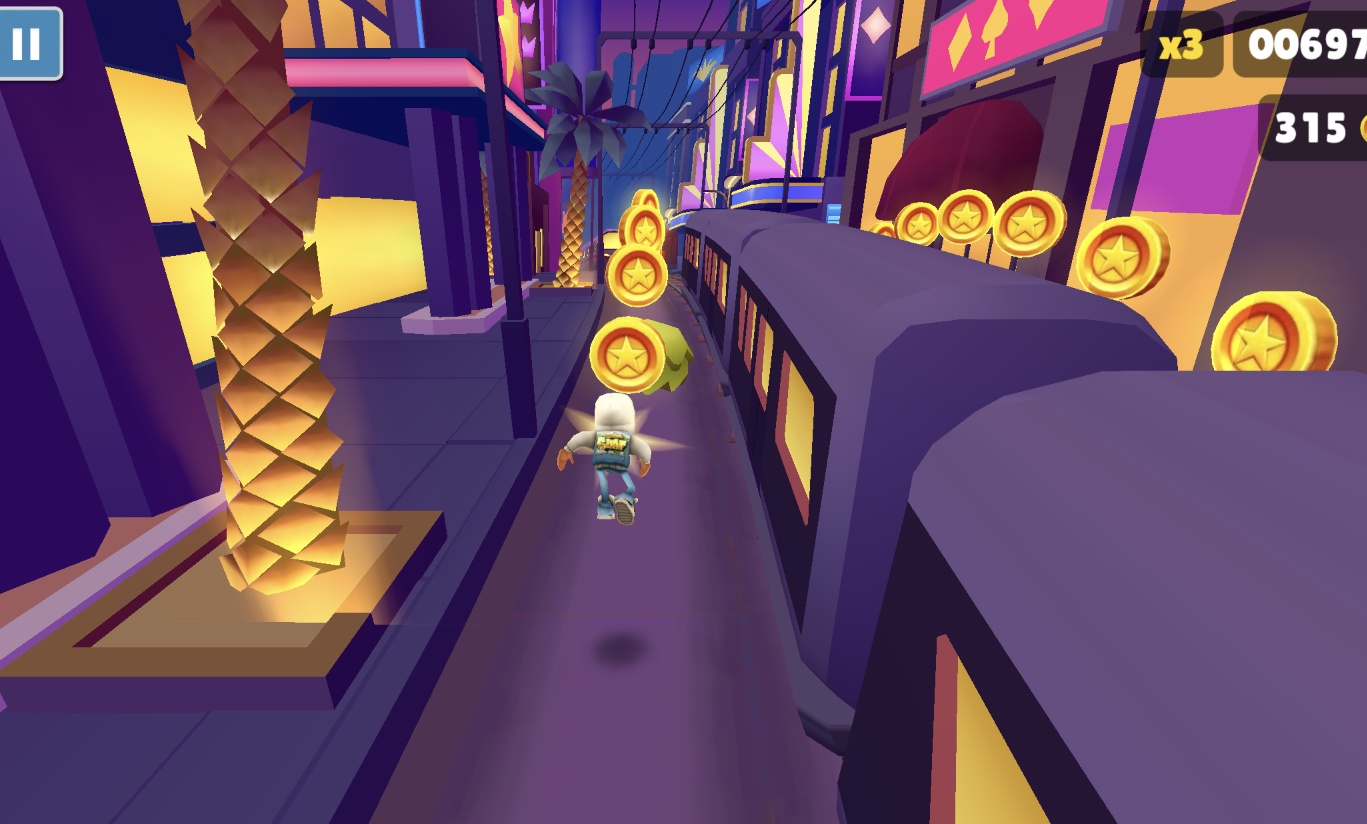bush: (614, 329, 695, 395)
ground_barrier: (614, 247, 646, 285)
train: (670, 209, 1367, 824), (658, 224, 682, 269), (600, 229, 623, 274)
